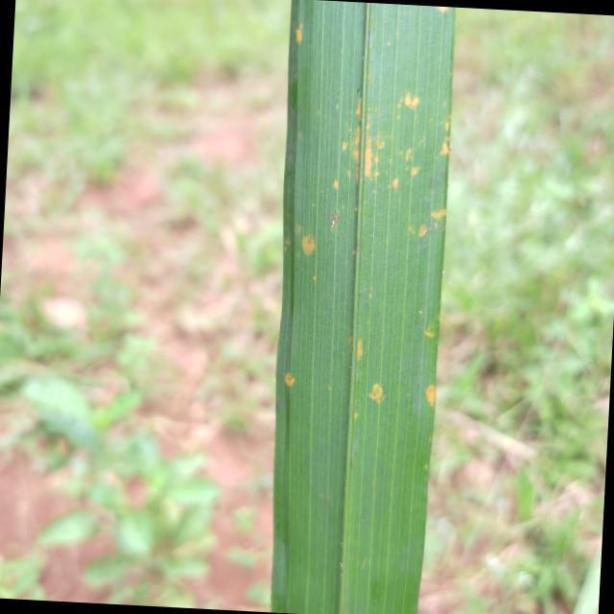Kalium: (274, 0, 458, 614)
